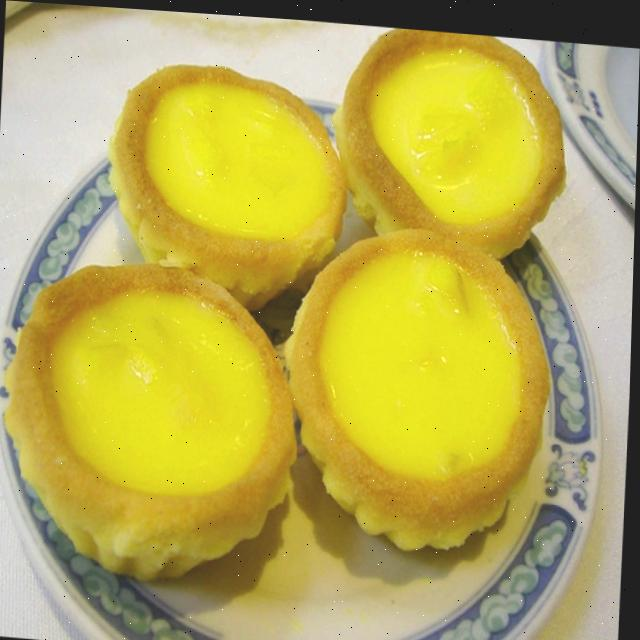炸货点心: (0, 1, 627, 640)
蛋糕甜品: (0, 1, 627, 640)
